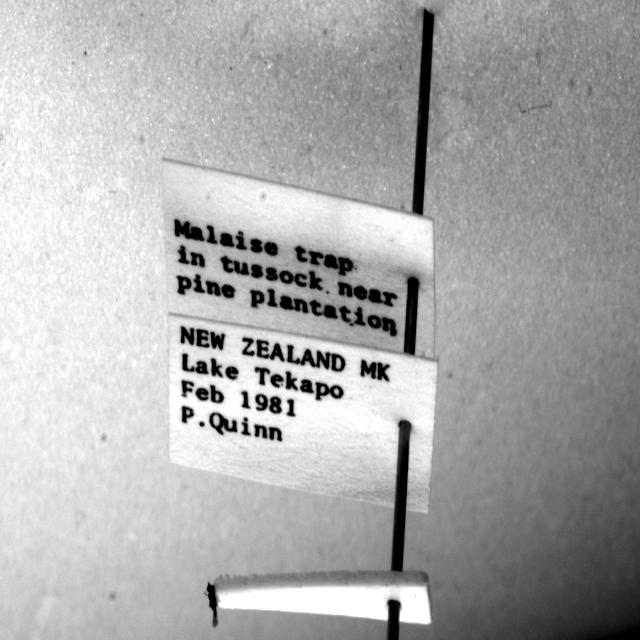typed_label: (162, 159, 435, 358), (169, 315, 438, 512)
